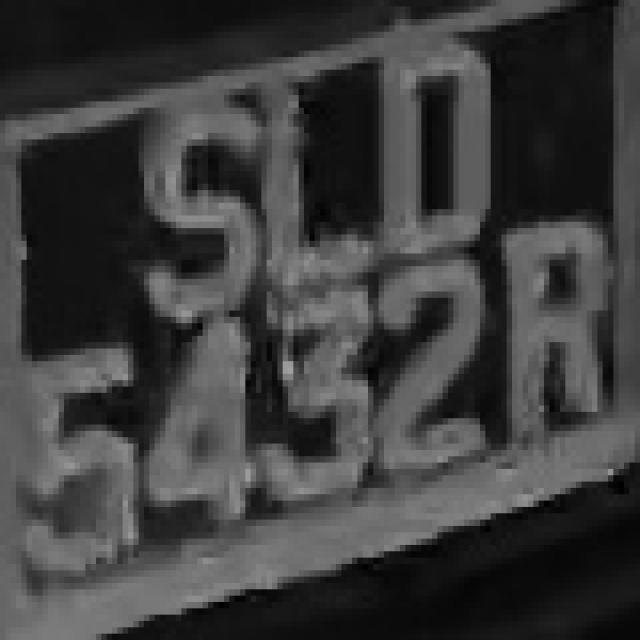2: (379, 228, 496, 501)
3: (267, 266, 384, 520)
4: (149, 285, 272, 558)
5: (21, 323, 144, 589)
D: (379, 38, 501, 266)
L: (262, 57, 374, 285)
R: (491, 215, 629, 450)
S: (128, 89, 251, 317)
